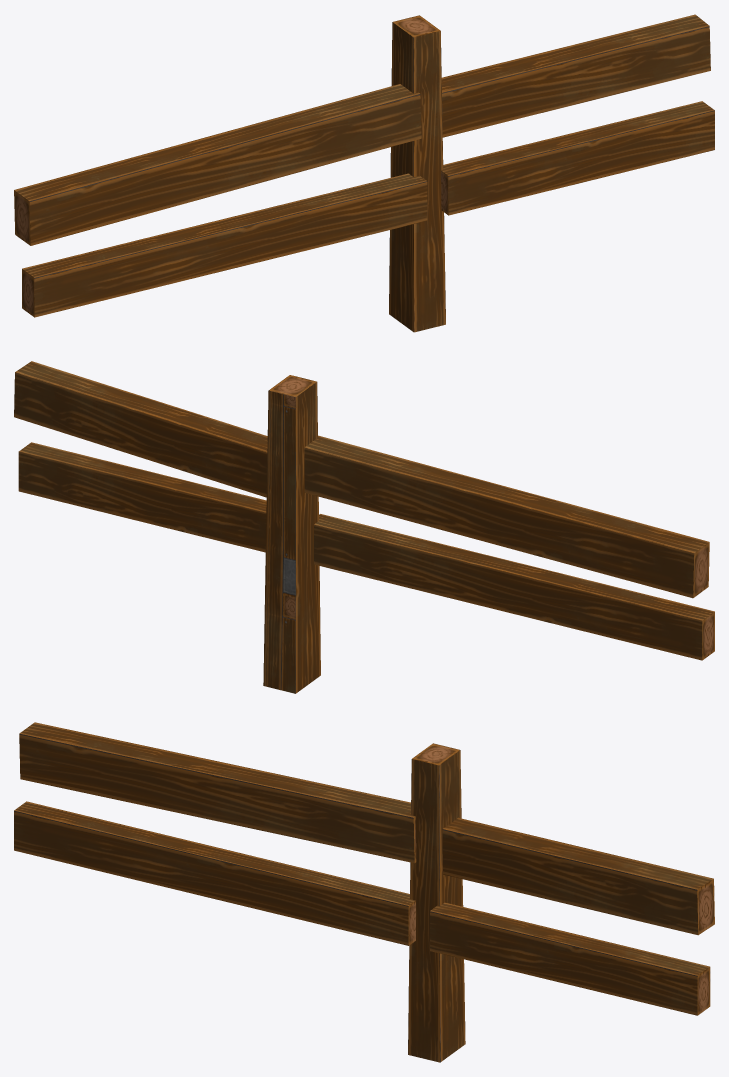
3 views of the same model, one above another, from view 1: azimuth 30°, elevation 25°; view 2: azimuth 150°, elevation 25°; view 3: azimuth 330°, elevation 25° (orthographic).
Visible parts, largest first — view 1: Cube.1818; view 2: Cube.1818; view 3: Cube.1818.
Boxes of the visible parts, x1,y1,x2,y2 form: Cube.1818: (14, 14, 714, 332); Cube.1818: (14, 361, 714, 693); Cube.1818: (14, 722, 714, 1062).
Bounding box in the file's own units: 345 × 142 × 27.79.
1 material, 1 textured.
